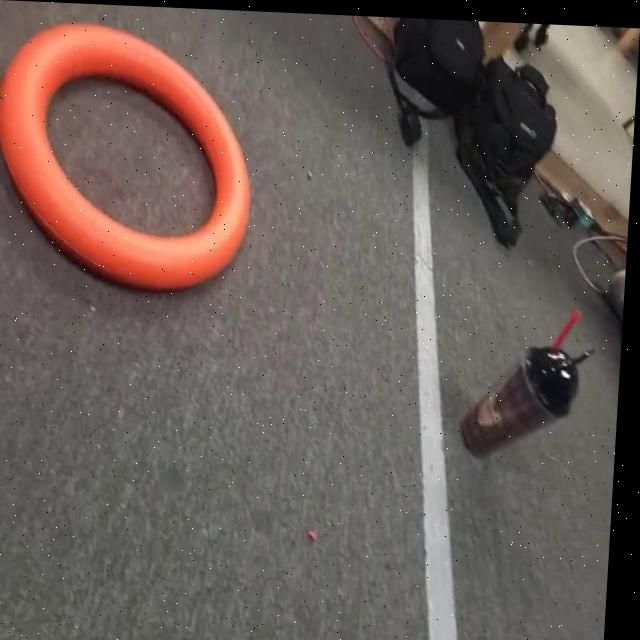note: (0, 12, 264, 301)
